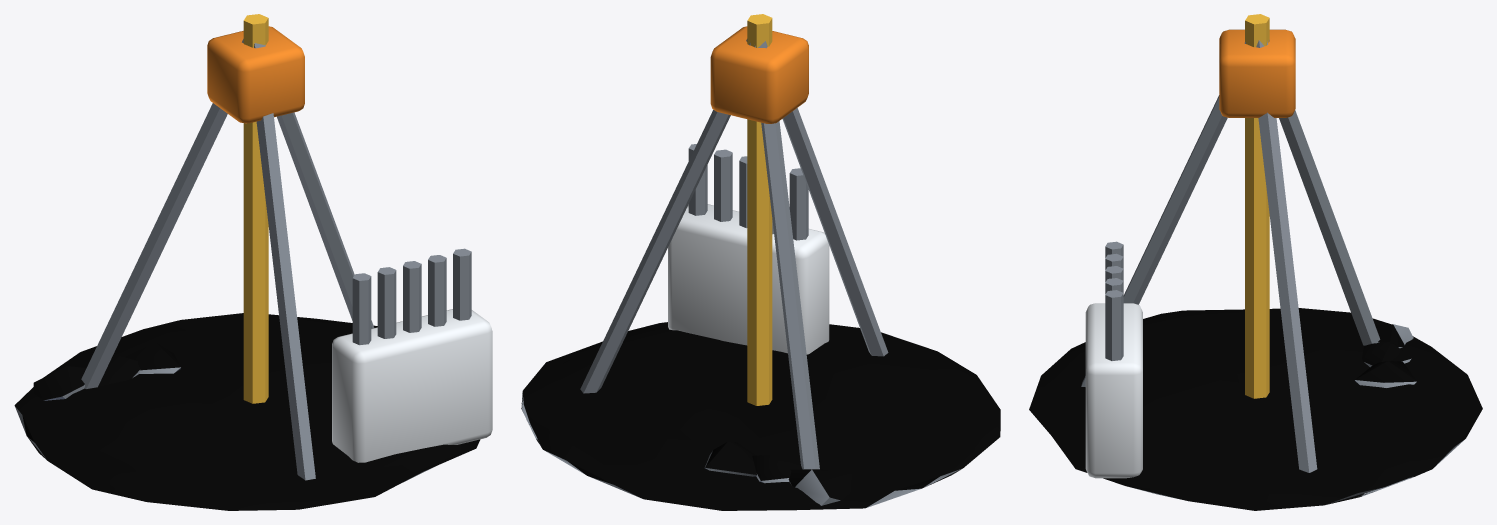
File: RockSampler.fbx
The picture shows the model from 3 angles, left to right: view 1: azimuth 30°, elevation 25°; view 2: azimuth 150°, elevation 25°; view 3: azimuth 270°, elevation 25°; orthographic projection.
Visible parts, largest first — view 1: RockSampler; view 2: RockSampler; view 3: RockSampler.
Part boxes in pixels (x1,y1,x2,y2): RockSampler: [14, 14, 492, 510]; RockSampler: [521, 14, 1000, 510]; RockSampler: [1029, 14, 1482, 510].
Bounding box in the file's own units: 1.5 × 1.36 × 1.43.
1 material, 1 textured.
